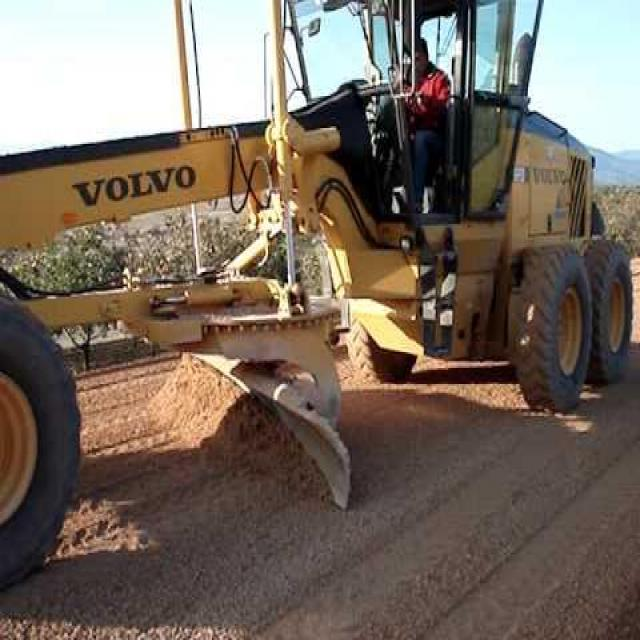Grader: (1, 3, 639, 596)
